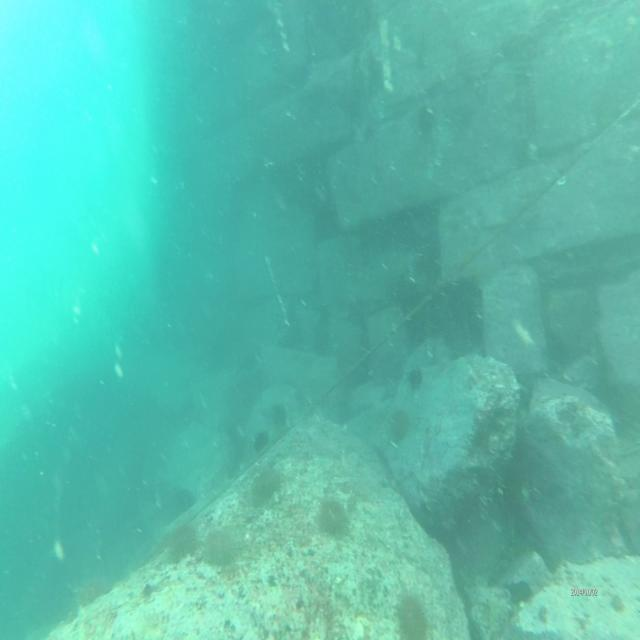echinus: (392, 585, 430, 637), (310, 499, 352, 535), (203, 526, 238, 569), (164, 521, 194, 559), (248, 468, 282, 501), (388, 403, 406, 442), (251, 432, 270, 453), (405, 365, 424, 385)
